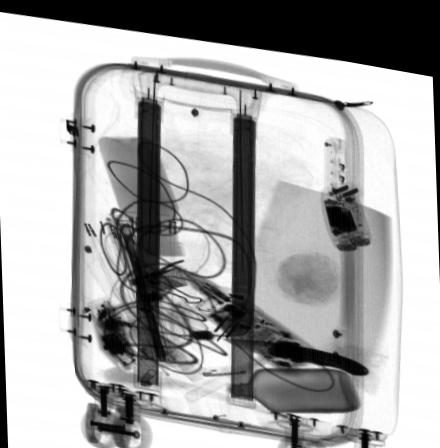Knife: (221, 329, 368, 363)
